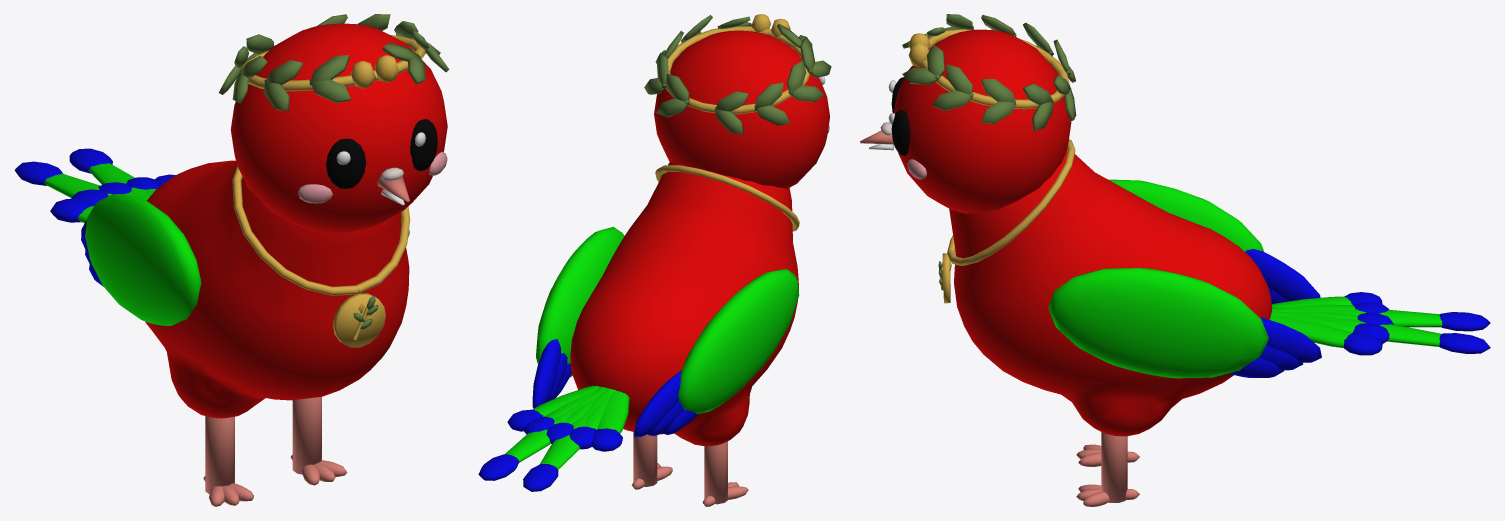
The model's file is Dove_Leader.fbx.
3 renders of one model, left to right at view 1: azimuth 30°, elevation 25°; view 2: azimuth 150°, elevation 25°; view 3: azimuth 270°, elevation 25°, orthographic. The views are drawn at different scales.
Parts seen in each view (by area): view 1: Dove_Leader; view 2: Dove_Leader; view 3: Dove_Leader.
Part boxes in pixels (<box>): Dove_Leader: <box>14,14,449,506</box>; Dove_Leader: <box>478,14,831,506</box>; Dove_Leader: <box>860,14,1490,506</box>.
Size of the model in its own units: 0.6677 by 1.33 by 1.71.
